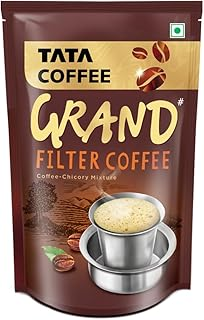Coffee: (1, 1, 199, 315)
